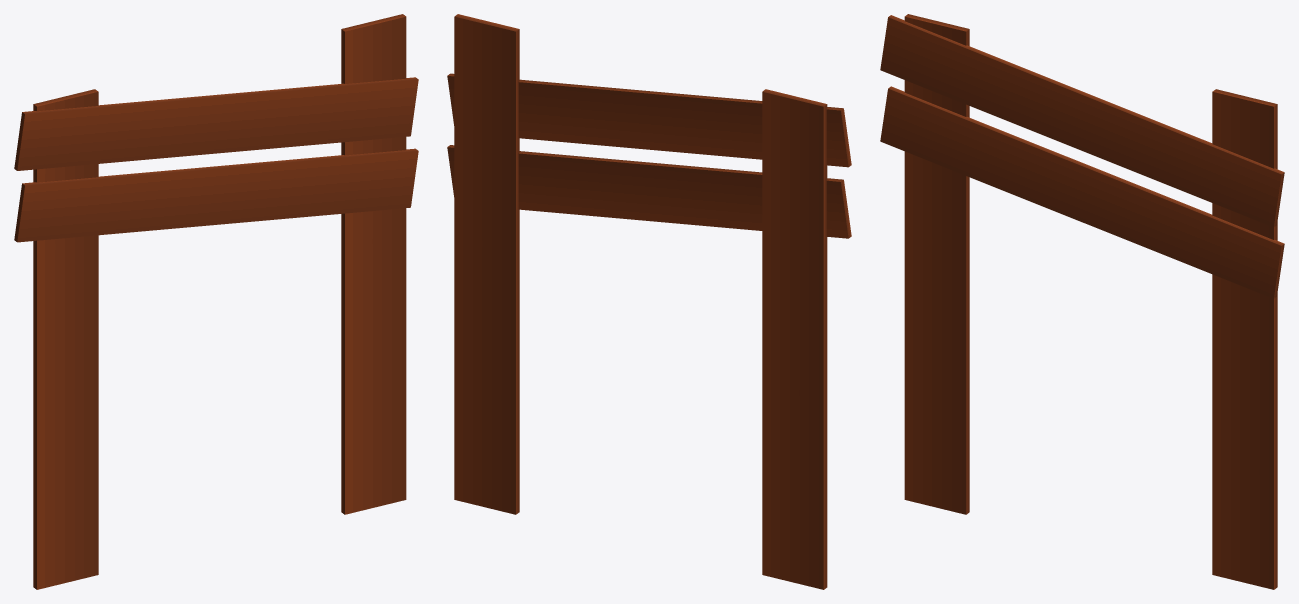
File: slider.fbx
3 renders of one model, left to right at view 1: azimuth 30°, elevation 25°; view 2: azimuth 150°, elevation 25°; view 3: azimuth 330°, elevation 25°, orthographic.
Parts seen in each view (by area): view 1: _cube_bottom; view 2: _cube_bottom; view 3: _cube_bottom.
Boxes of the visible parts, <box> form: _cube_bottom: <box>14,14,418,589</box>; _cube_bottom: <box>447,14,851,589</box>; _cube_bottom: <box>880,14,1284,589</box>.
Size of the model in its own units: 130 by 150 by 3.31.
